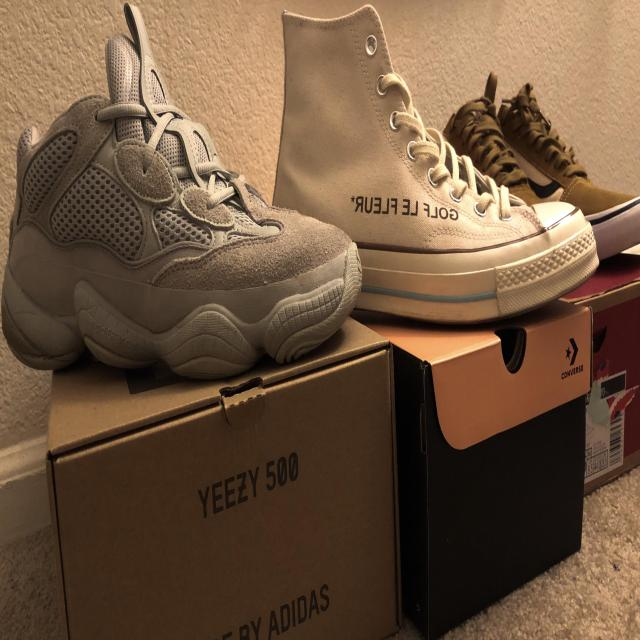shoes: (3, 0, 366, 402), (266, 0, 608, 337), (435, 61, 640, 282)
